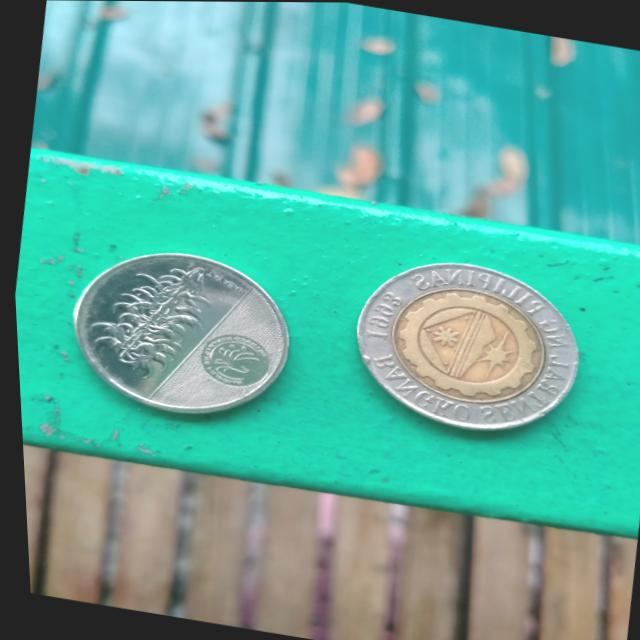10_Old_Back: (344, 250, 589, 446)
5_New_Back: (84, 249, 216, 387)
